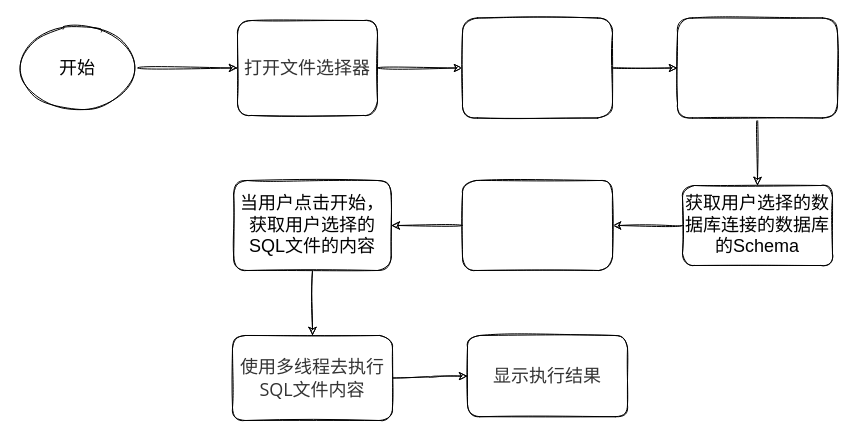
This 855x438 diagram has some shape labels left out. The centre of each missing label's shape, as x and y in pixels:
创建并打开执行脚本弹窗，显示对应的内容: (537,225)
获取VDS已打开的数据库连接: (757,67)
获取用户选择文件的名字和路径: (537,67)
